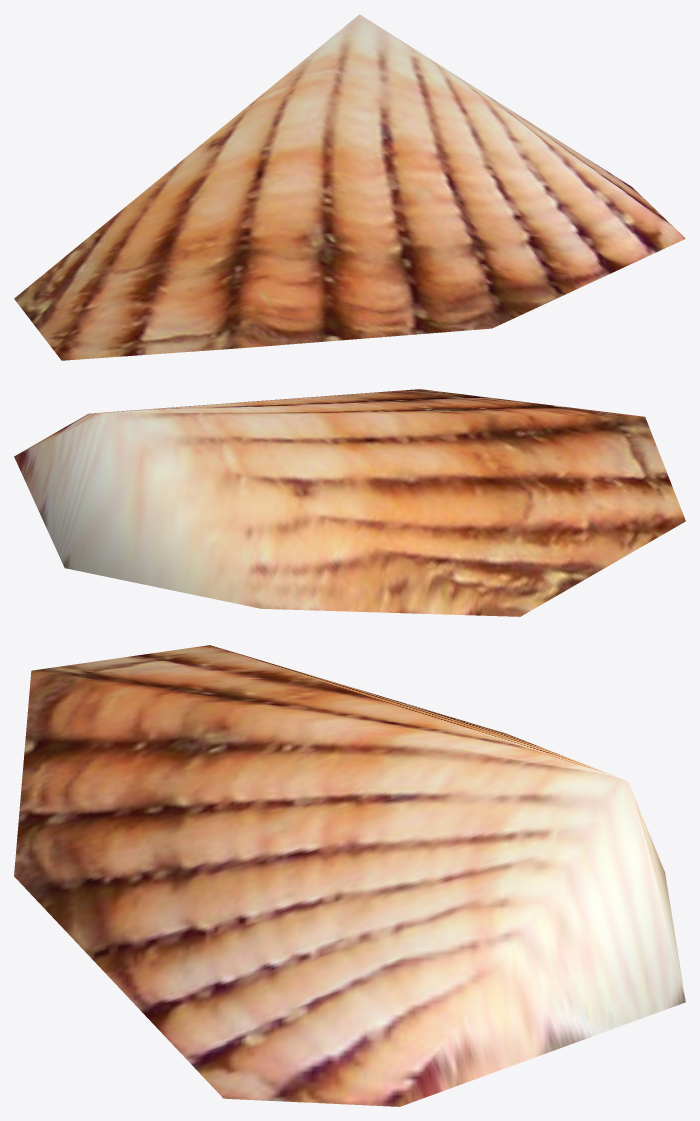
Rendered from Shell1.fbx.
The picture shows the model from 3 angles, top to bottom: view 1: azimuth 30°, elevation 25°; view 2: azimuth 150°, elevation 25°; view 3: azimuth 270°, elevation 25°; orthographic projection. The views are drawn at different scales.
Parts seen in each view (by area): view 1: pPlane2; view 2: pPlane2; view 3: pPlane2.
Part boxes in pixels (x1,y1,x2,y2): pPlane2: [14, 14, 685, 360]; pPlane2: [14, 389, 685, 616]; pPlane2: [14, 645, 685, 1106].
Size of the model in its own units: 0.187 by 0.0431 by 0.1279.
